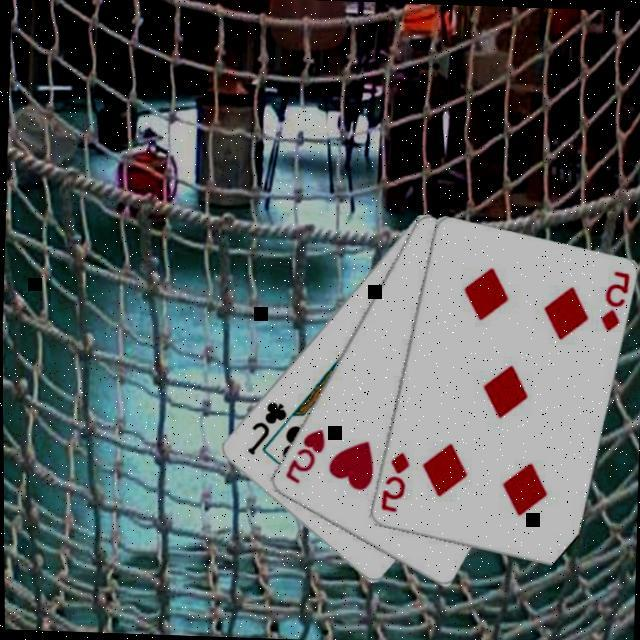5D: (598, 266, 634, 334), (378, 447, 412, 514)
5H: (282, 423, 329, 488)
JC: (243, 396, 290, 458)
